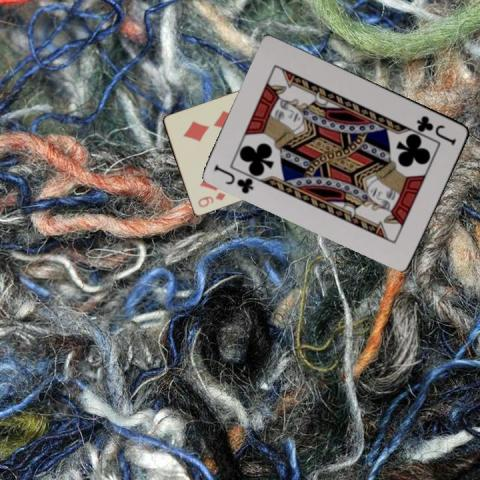9d: (195, 190, 227, 210)
Jc: (211, 162, 256, 196), (414, 112, 458, 146)
